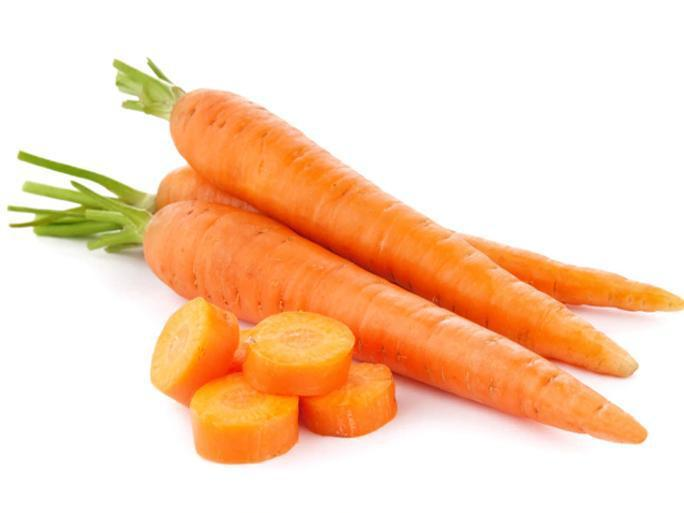carrot: (81, 48, 659, 447), (94, 186, 663, 451)
